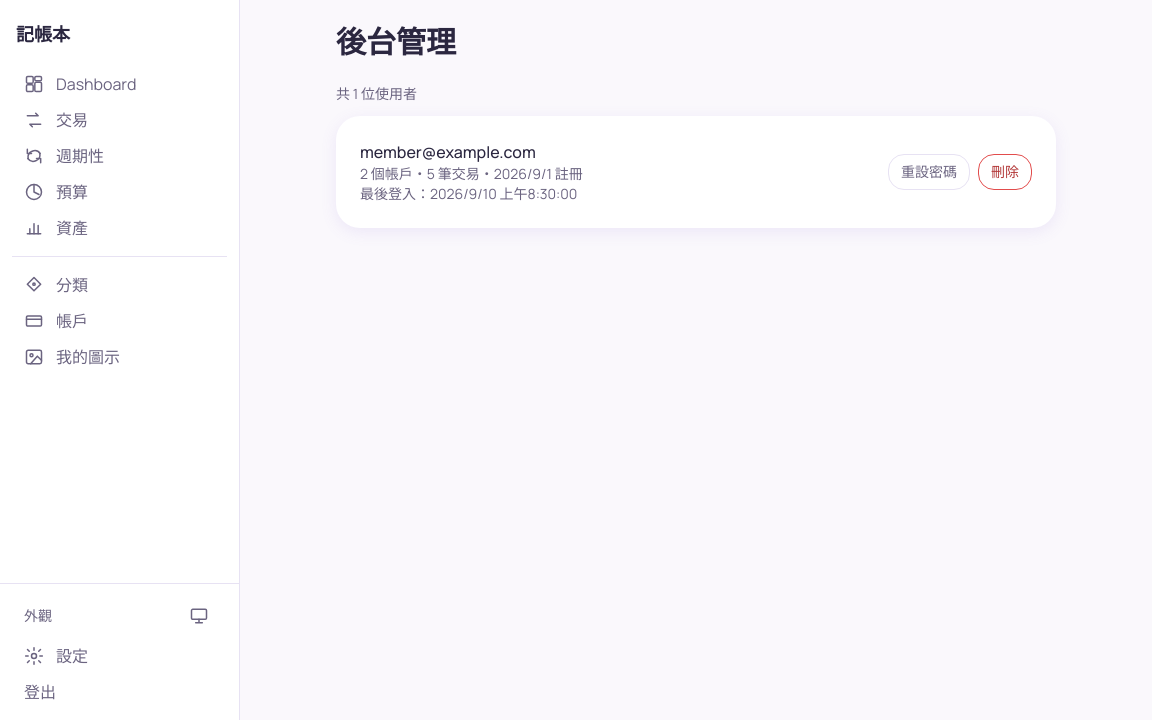
it: AdminPage › 點重設密碼呼叫 resetPassword，成功後顯示臨時密碼
Click the button with aria-label "重設密碼 member@example.com".
click(929, 172)  # box x1=888 y1=154 x2=970 y2=190
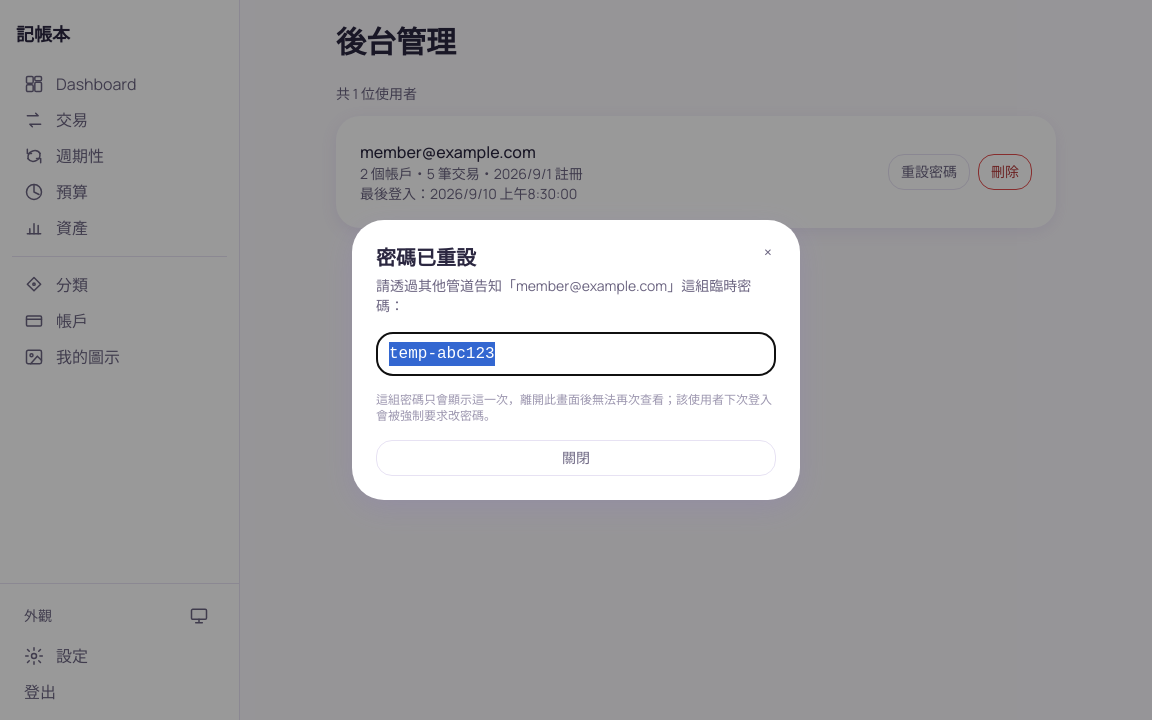
Check: the field showing "temp-abc123" is shown, box x1=376 y1=332 x2=776 y2=376
